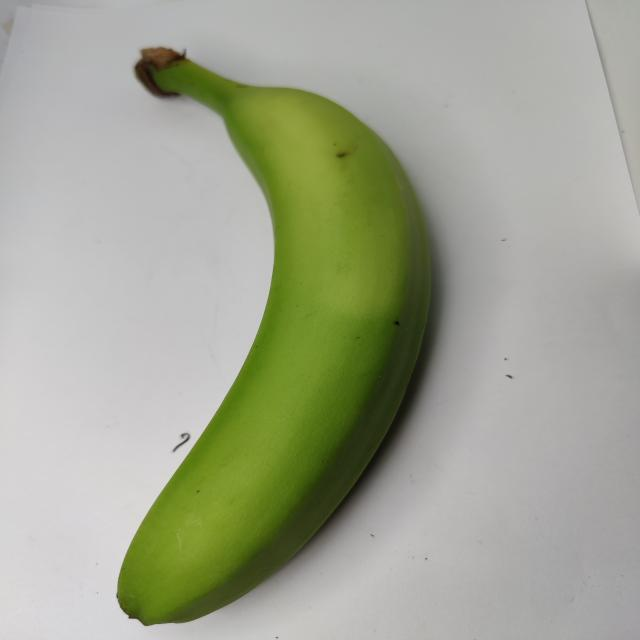raw: (23, 30, 488, 640)
